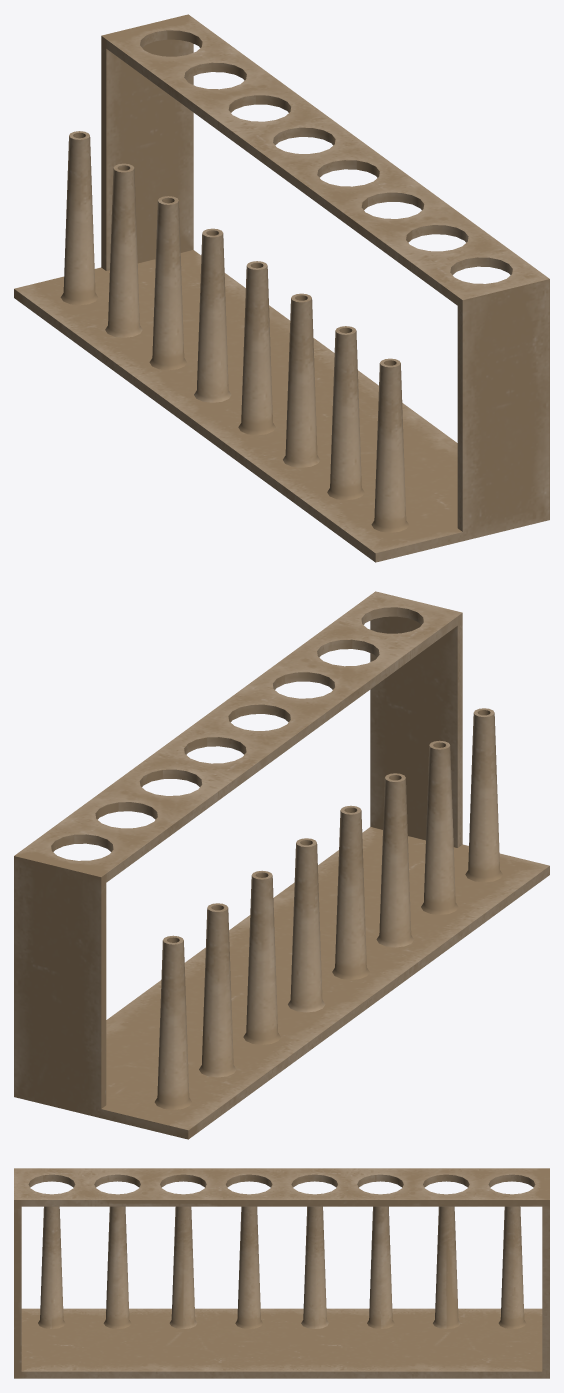
The model's file is SM_TestTubeStand_01.fbx.
3 views of the same model, one above another, from view 1: azimuth 30°, elevation 25°; view 2: azimuth 150°, elevation 25°; view 3: azimuth 270°, elevation 25° (orthographic). The views are drawn at different scales.
Visible parts, largest first — view 1: SM_TestTubeStand_01_LOD0; view 2: SM_TestTubeStand_01_LOD0; view 3: SM_TestTubeStand_01_LOD0.
Part boxes in pixels (box(x1,y1,x2,y2)): SM_TestTubeStand_01_LOD0: box(14, 14, 549, 562); SM_TestTubeStand_01_LOD0: box(14, 591, 549, 1139); SM_TestTubeStand_01_LOD0: box(14, 1168, 549, 1378).
Size of the model in its own units: 9.85 by 35.34 by 13.
